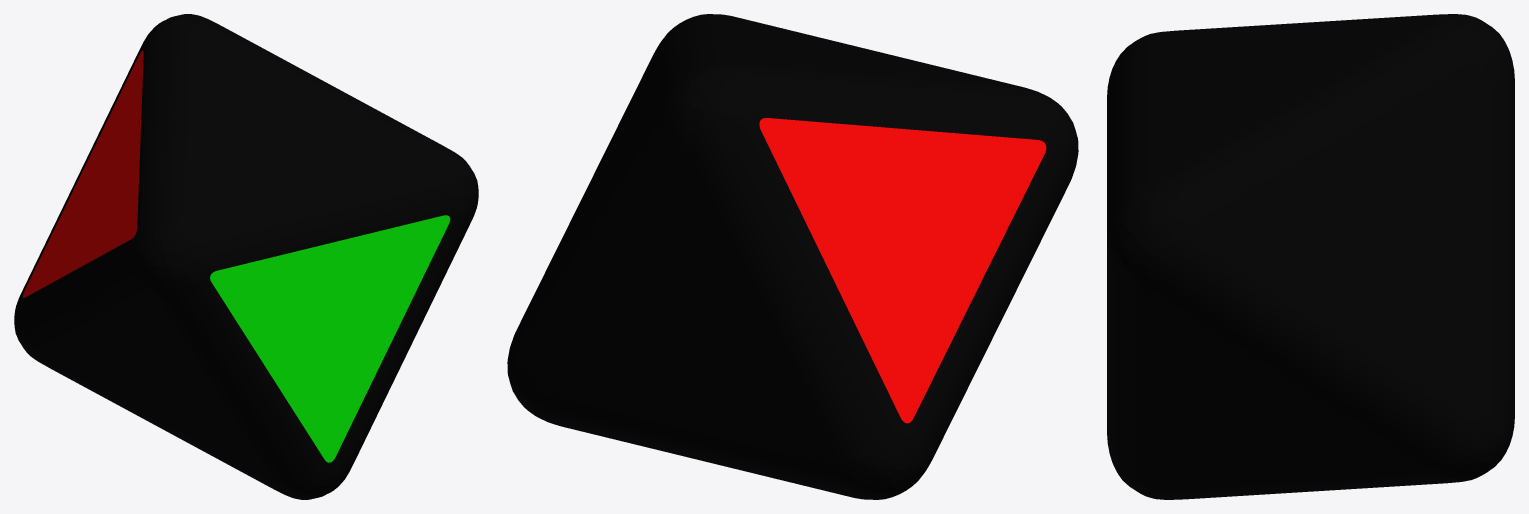
3 views of the same model, side by side, from view 1: azimuth 30°, elevation 25°; view 2: azimuth 150°, elevation 25°; view 3: azimuth 270°, elevation 25° (orthographic). The views are drawn at different scales.
Visible parts, largest first — view 1: o_gr; view 2: o_gr; view 3: o_gr.
Boxes of the visible parts, box(x1,y1,x2,y2) form: o_gr: box(14, 14, 478, 499); o_gr: box(507, 14, 1078, 499); o_gr: box(1107, 14, 1514, 499).
Bounding box in the file's own units: 154 × 171 × 133.
